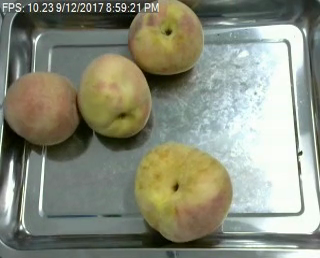Peach: (134, 141, 233, 244), (78, 52, 154, 137), (127, 0, 204, 74), (4, 71, 79, 145)
